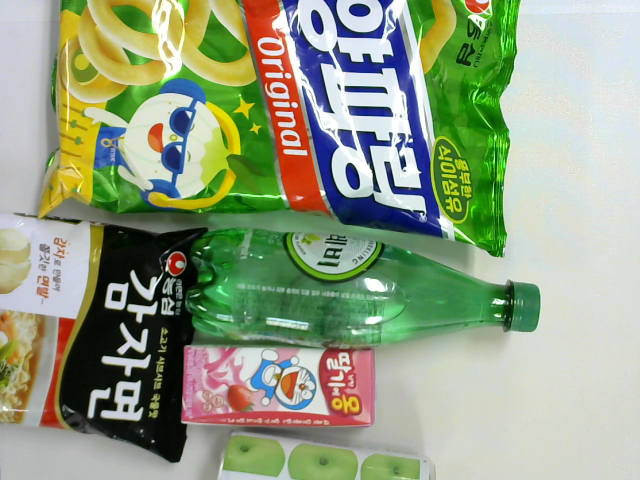Demisoda_Apple_Can_250ml: (215, 429, 437, 480)
Oninon_Ring: (40, 1, 521, 259)
Potato: (1, 209, 208, 464)
Strawberry_E_Mong: (180, 344, 375, 428)
Treviraim_500ml: (185, 227, 540, 346)
